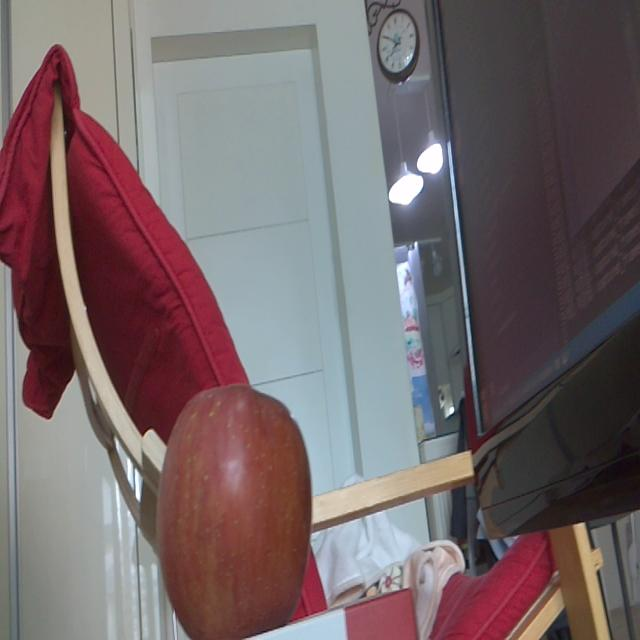apple: (159, 380, 312, 634)
